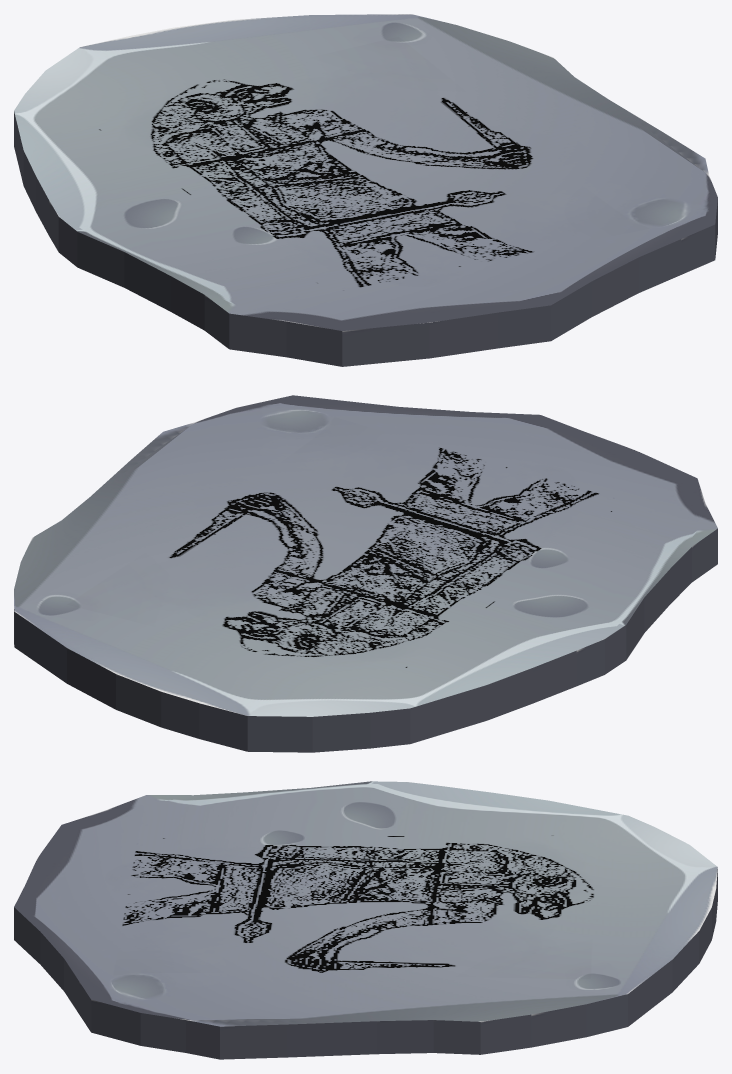
The model's file is runeBabi.glb.
The picture shows the model from 3 angles, top to bottom: view 1: azimuth 30°, elevation 25°; view 2: azimuth 150°, elevation 25°; view 3: azimuth 270°, elevation 25°; orthographic projection. The views are drawn at different scales.
Visible parts, largest first — view 1: rune; view 2: rune; view 3: rune.
Part boxes in pixels (left/top/right/bottom): rune: left=14, top=14, right=717, bottom=366; rune: left=14, top=395, right=717, bottom=752; rune: left=14, top=781, right=717, bottom=1059.
Size of the model in its own units: 0.8115 by 0.0509 by 0.9844.
1 material, 1 textured.
